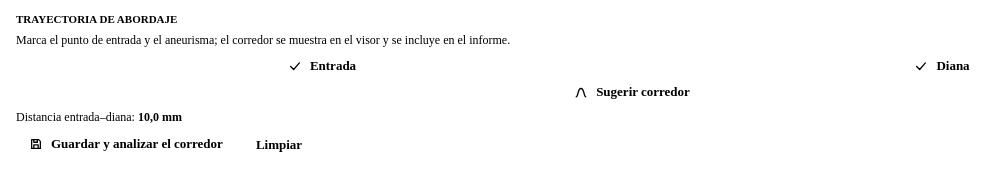
TrajectoryTool › sin morfometría avisa de que la referencia es el eje vertical
The width and height of the screenshot is (987, 170).
Step 1. Click the button "Guardar y analizar el corredor" → (126, 144), box [16, 135, 236, 153]
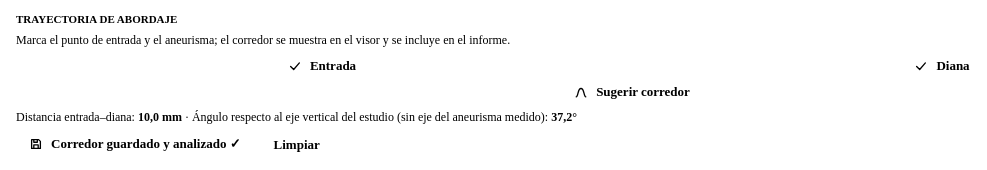
Expected: the text "eje vertical del estudio" is shown, [192, 110, 545, 124]
